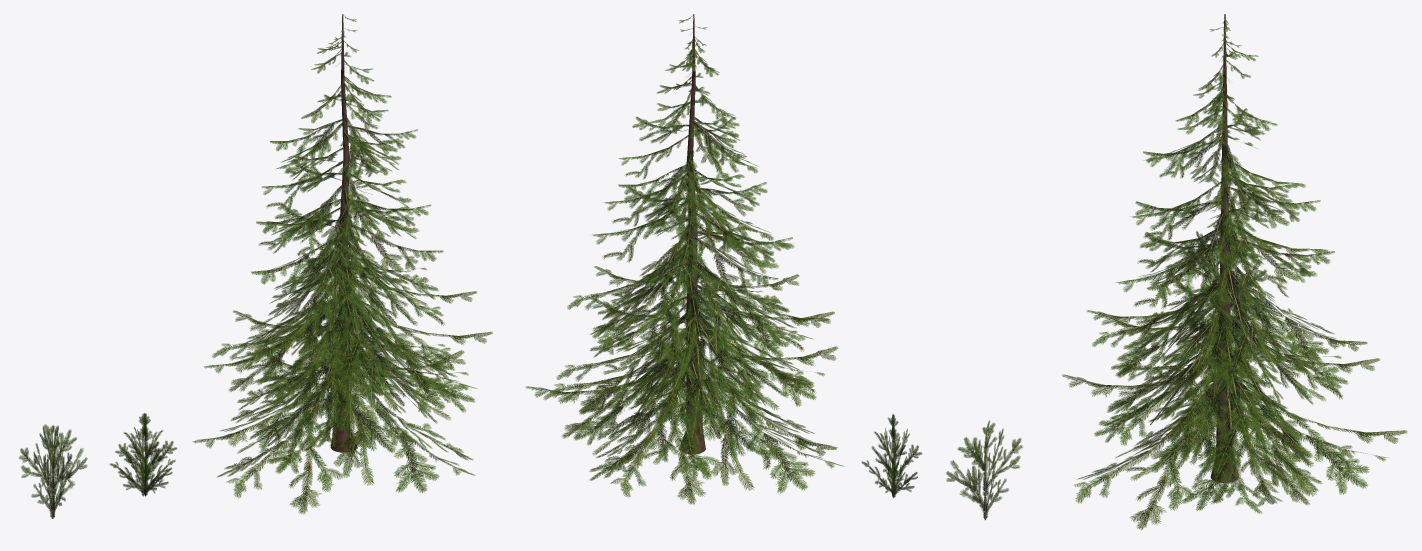
Rendered from Tree.glb.
3 views of the same model, side by side, from view 1: azimuth 30°, elevation 25°; view 2: azimuth 150°, elevation 25°; view 3: azimuth 270°, elevation 25° (orthographic). The views are drawn at different scales.
Parts seen in each view (by area): view 1: big_branch_1.001, big_branch_2.001, big_branch_1.003, big_branch_1.007, big_branch_2.003, big_branch_1.009, big_branch_1.011, big_branch_2.009, big_branch_2.011, mini_tree_1, big_branch_2.005, big_branch_1.005 (+29 smaller); view 2: big_branch_2, big_branch_1, big_branch_1.004, big_branch_2.004, big_branch_1.003, big_branch_2.003, big_branch_1.008, big_branch_2.007, big_branch_2.008, big_branch_1.011, mini_tree_1, big_branch_2.002 (+29 smaller); view 3: big_branch_1.002, big_branch_1.006, big_branch_1.010, big_branch_2.006, big_branch_2.002, big_branch_1.005, big_branch_1.001, big_branch_2.010, big_branch_1.008, big_branch_1, big_branch_2, tree trunk (+31 smaller).
Part boxes in pixels (x1,y1,x2,y2): big_branch_1.001: (333, 356, 475, 493); big_branch_2.001: (270, 333, 417, 457); big_branch_1.003: (217, 380, 350, 514); big_branch_1.007: (264, 321, 383, 448); big_branch_2.003: (192, 364, 347, 473); big_branch_1.009: (297, 262, 422, 380); big_branch_1.011: (241, 255, 349, 375); big_branch_2.009: (290, 271, 411, 369); big_branch_2.011: (256, 267, 365, 367); mini_tree_1: (19, 424, 87, 518); big_branch_2.005: (273, 293, 392, 397); big_branch_1.005: (354, 312, 477, 412); big_branch_2: (596, 355, 726, 480); big_branch_1: (589, 353, 719, 504); big_branch_1.004: (631, 300, 765, 431); big_branch_2.004: (619, 310, 735, 418); big_branch_1.003: (703, 371, 844, 493); big_branch_2.003: (683, 356, 837, 469); big_branch_1.008: (590, 249, 699, 364); big_branch_2.007: (677, 294, 811, 399); big_branch_2.008: (597, 266, 711, 367); big_branch_1.011: (696, 257, 813, 360); mini_tree_1: (946, 420, 1022, 520); big_branch_2.002: (525, 358, 677, 445); big_branch_1.002: (1151, 356, 1311, 513); big_branch_1.006: (1165, 339, 1310, 473); big_branch_1.010: (1177, 259, 1310, 386); big_branch_2.006: (1145, 318, 1266, 436); big_branch_2.002: (1159, 381, 1322, 506); big_branch_1.005: (1104, 319, 1229, 460); big_branch_1.001: (1074, 379, 1220, 529); big_branch_2.010: (1154, 283, 1265, 388); big_branch_1.008: (1229, 258, 1352, 367); big_branch_1: (1236, 377, 1386, 496); big_branch_2: (1236, 375, 1407, 471); tree trunk: (1210, 14, 1237, 482).
Size of the model in its own units: 68.5 by 62.13 by 41.11.
8 materials, 8 textured.
